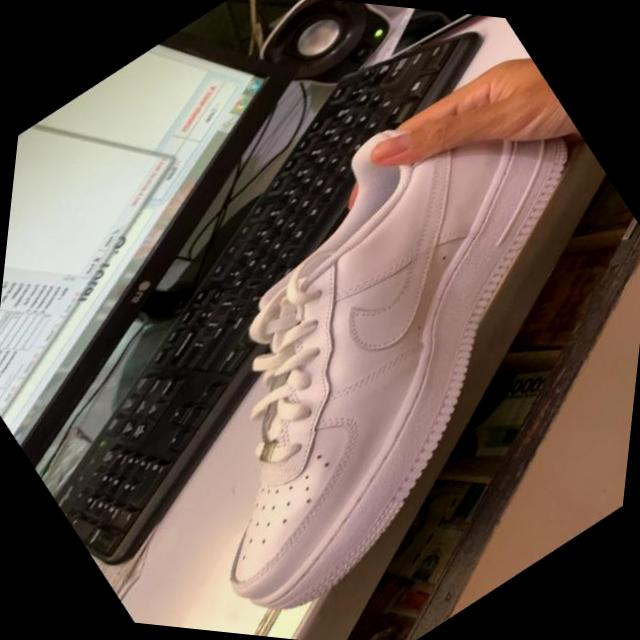nike_original_airforce: (34, 3, 640, 640)
